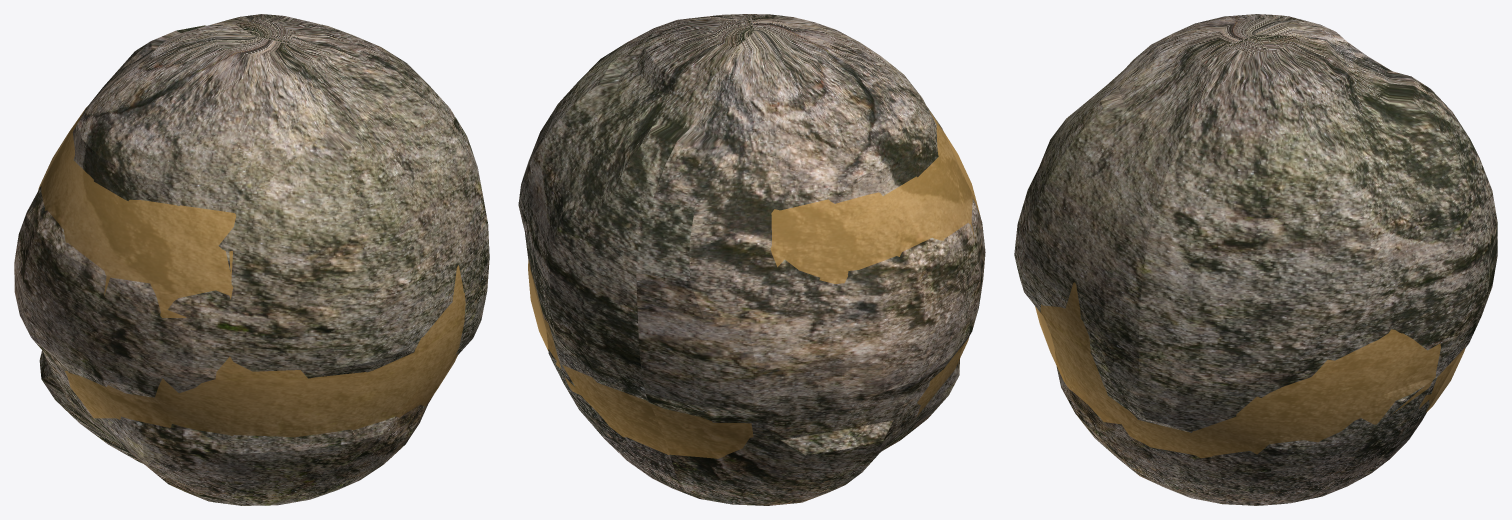
Rendered from EarthRock.fbx.
The picture shows the model from 3 angles, left to right: view 1: azimuth 30°, elevation 25°; view 2: azimuth 150°, elevation 25°; view 3: azimuth 270°, elevation 25°; orthographic projection.
Parts seen in each view (by area): view 1: polySurface1; view 2: polySurface1; view 3: polySurface1.
Boxes of the visible parts, <box> form: polySurface1: <box>14,14,489,505</box>; polySurface1: <box>518,14,985,505</box>; polySurface1: <box>1014,14,1497,505</box>.
Bounding box in the file's own units: 1.76 × 1.85 × 1.81.
2 materials, 1 textured.
